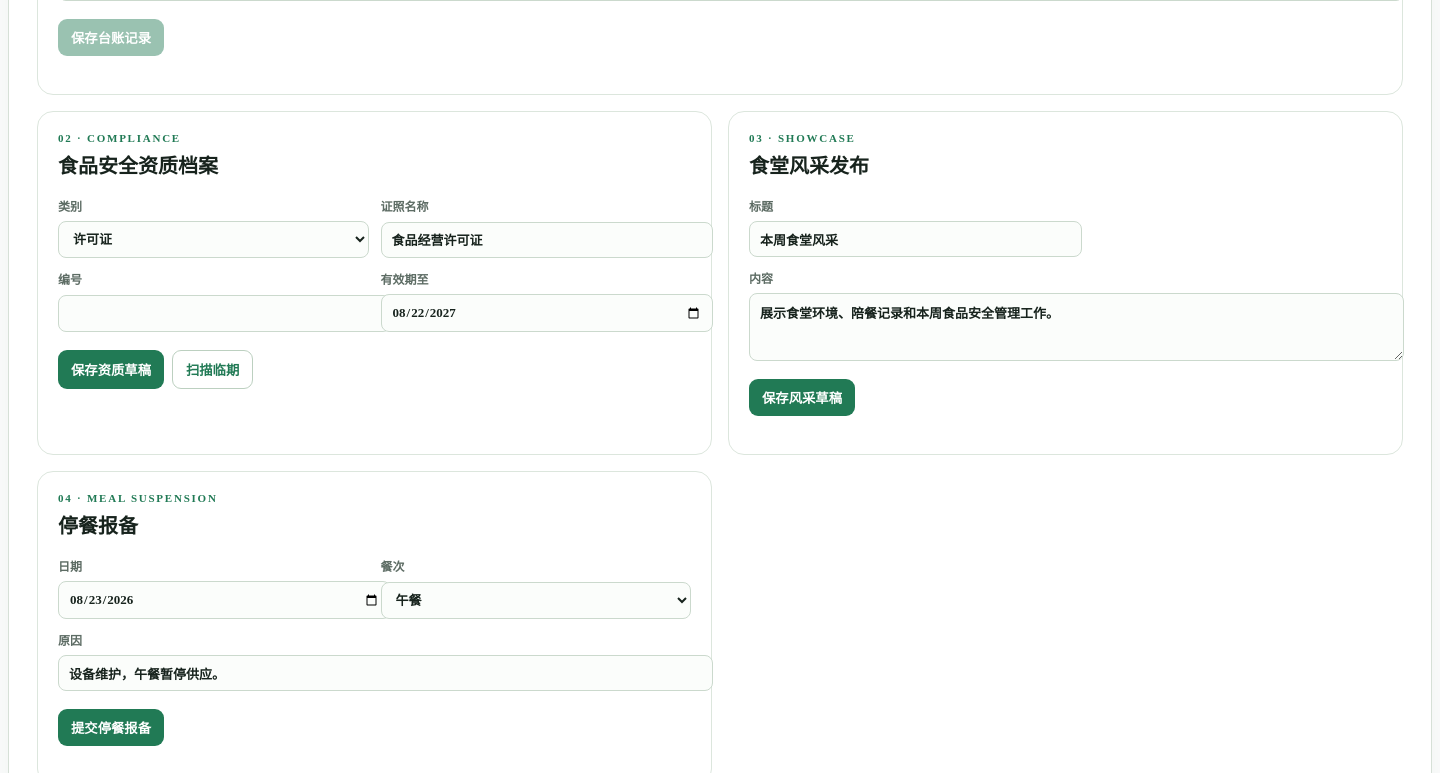
Test case: SafetyGovernanceWorkspace › creates a compliance draft from the operator form
(page scrolled)
Click the button "保存资质草稿".
click(111, 370)  # box [58,350,164,389]
(page scrolled)
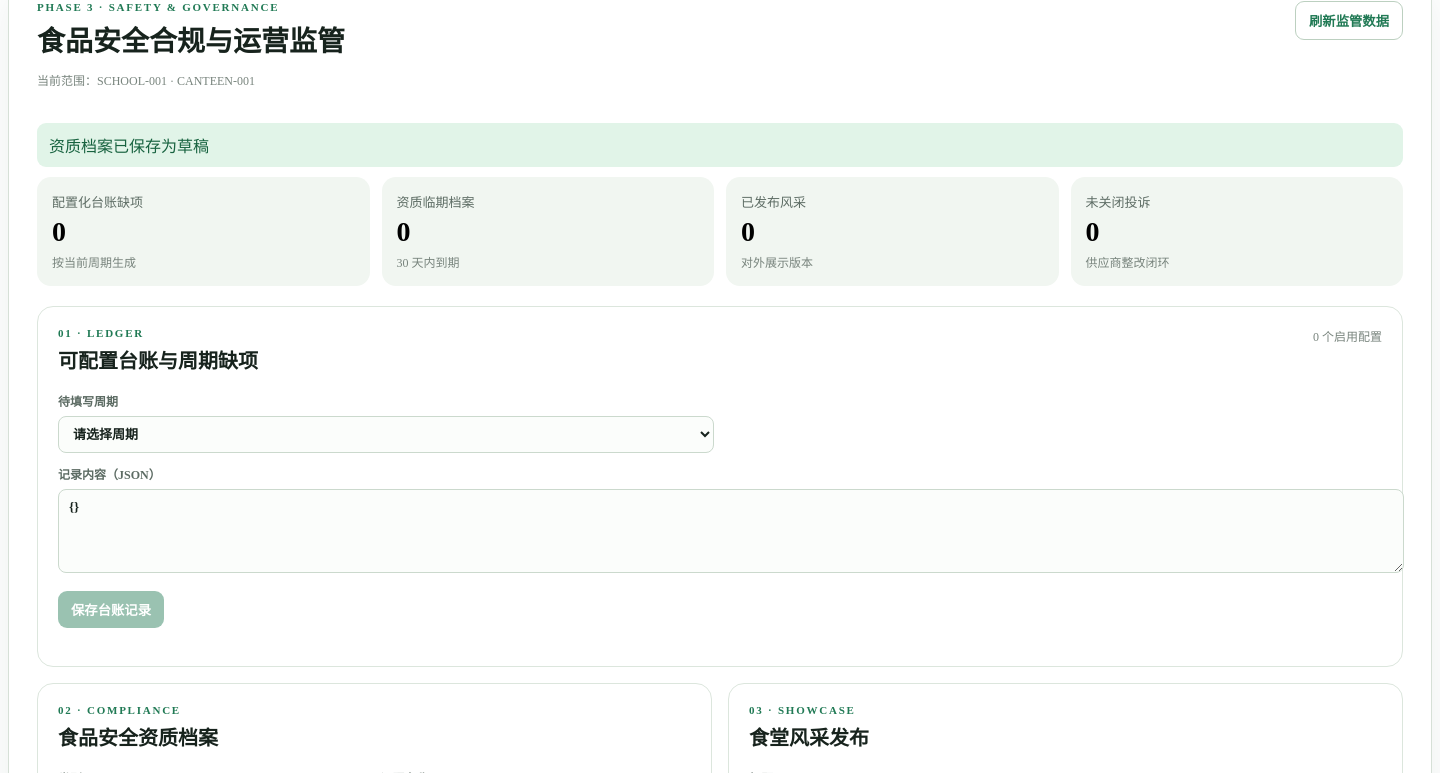
Now the text with test id "governance-notice" shows "资质档案", box [49,138,209,155]
